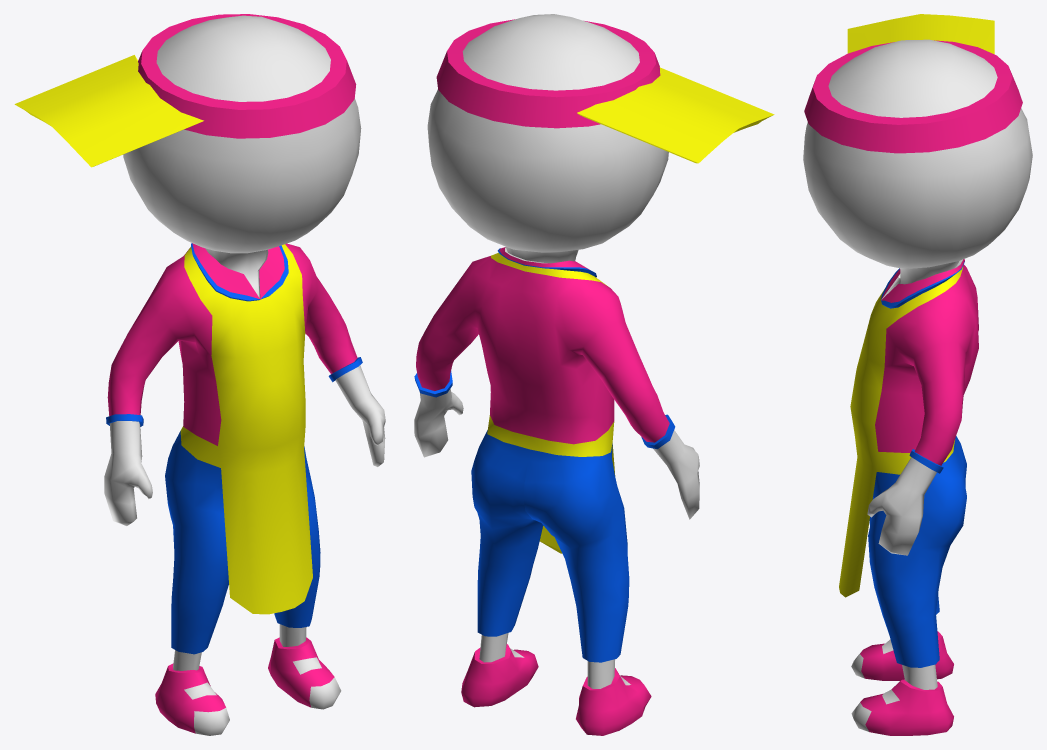
File: cashier_A_pose.fbx
The picture shows the model from 3 angles, left to right: view 1: azimuth 30°, elevation 25°; view 2: azimuth 150°, elevation 25°; view 3: azimuth 270°, elevation 25°; orthographic projection. The views are drawn at different scales.
Visible parts, largest first — view 1: cashier_A_pose; view 2: cashier_A_pose; view 3: cashier_A_pose.
Part boxes in pixels (x1,y1,x2,y2): cashier_A_pose: (14,14,385,735); cashier_A_pose: (414,14,774,735); cashier_A_pose: (803,14,1032,735).
Bounding box in the file's own units: 92.82 × 185 × 59.32.
